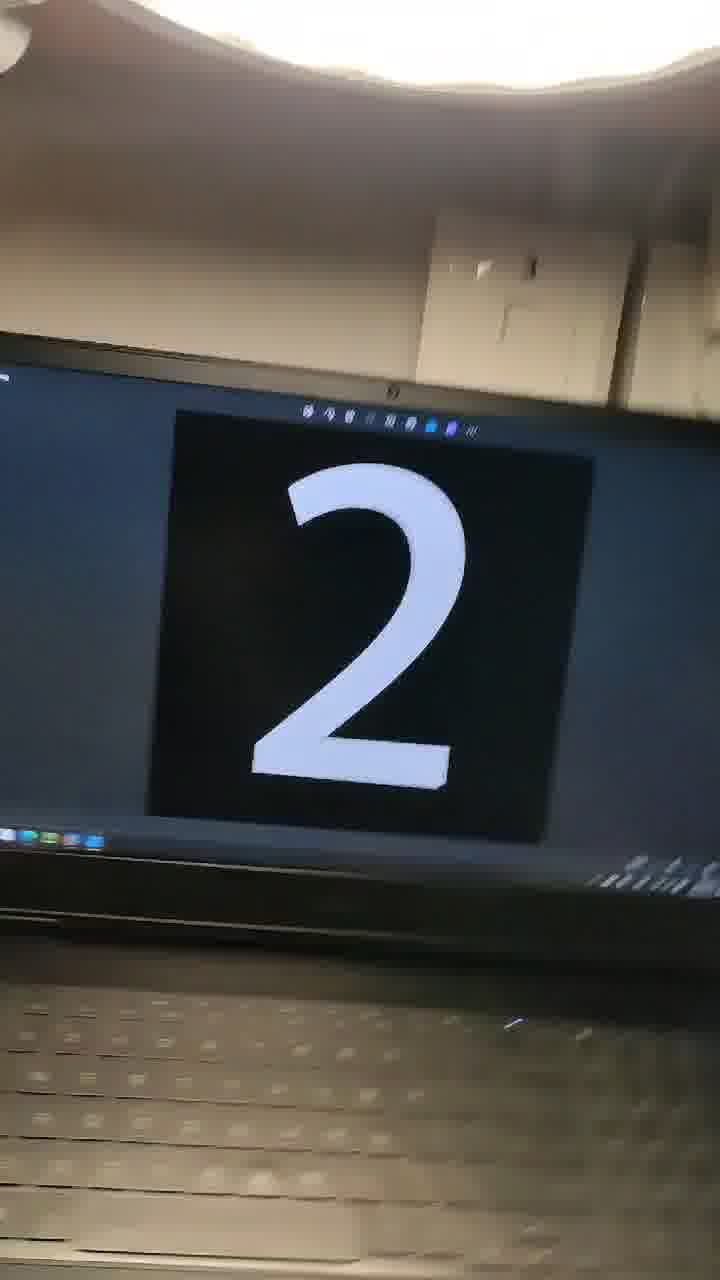two: (216, 410, 560, 857)
